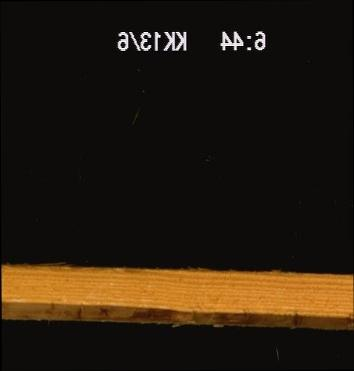wave: (1, 255, 352, 283), (4, 302, 350, 329)
